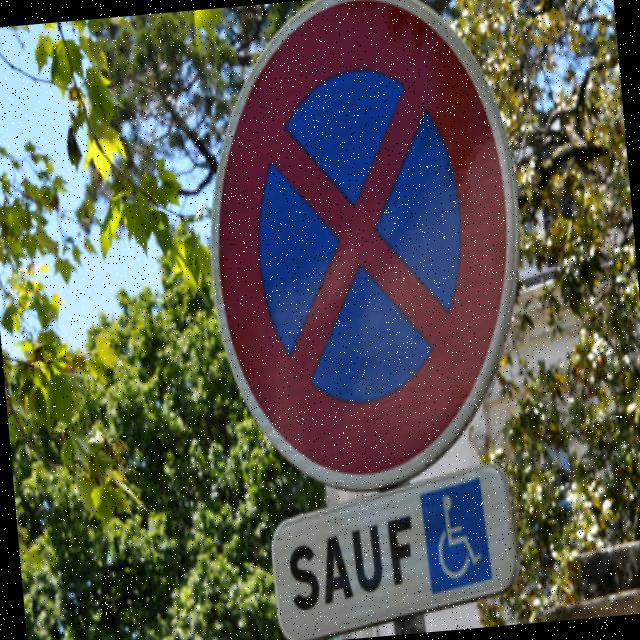no_parking: (183, 0, 546, 505)
